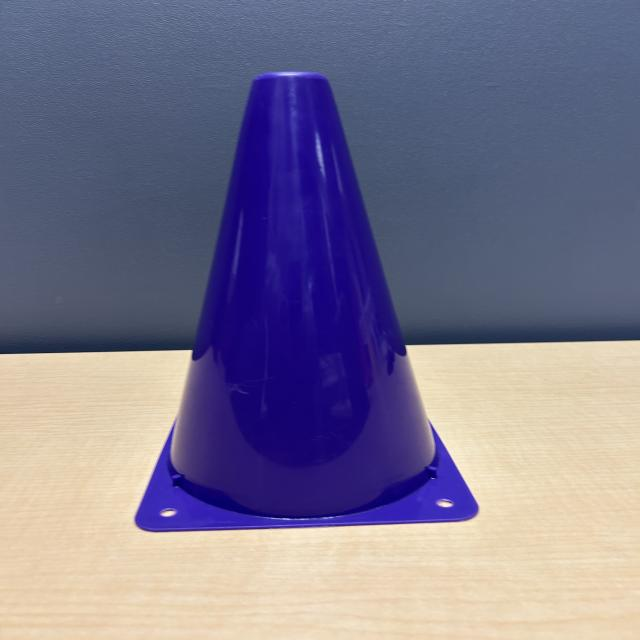purple cone: (132, 67, 486, 534)
